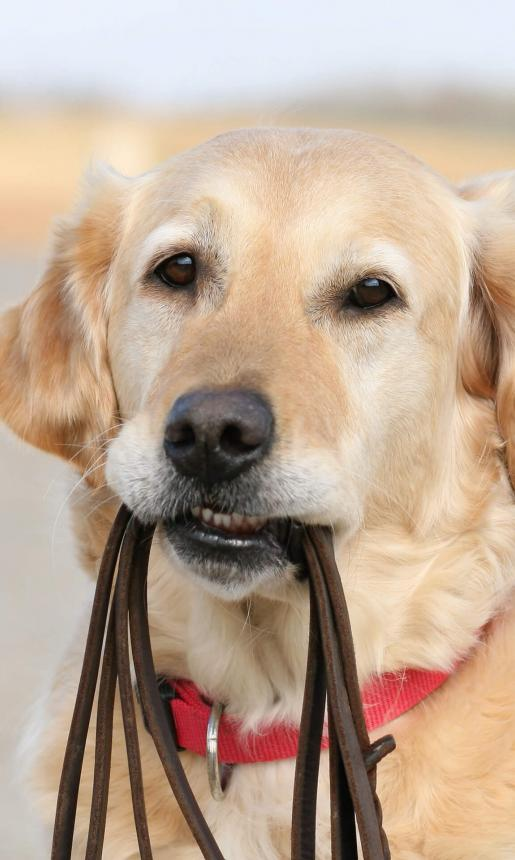pet: (55, 184, 492, 860)
